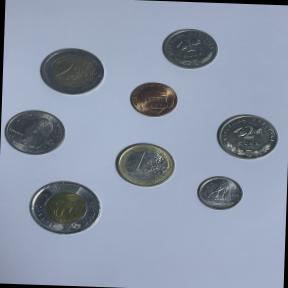1 Euro: (110, 140, 179, 192)
2 Euro: (34, 42, 109, 98)
Canda-10cent-: (193, 172, 247, 214)
Canda-2Dollar-: (23, 177, 107, 241)
Croatia-2Kune-: (212, 110, 282, 163)
US-1cent-: (125, 79, 182, 121)
US-25cent-: (0, 105, 68, 158)
